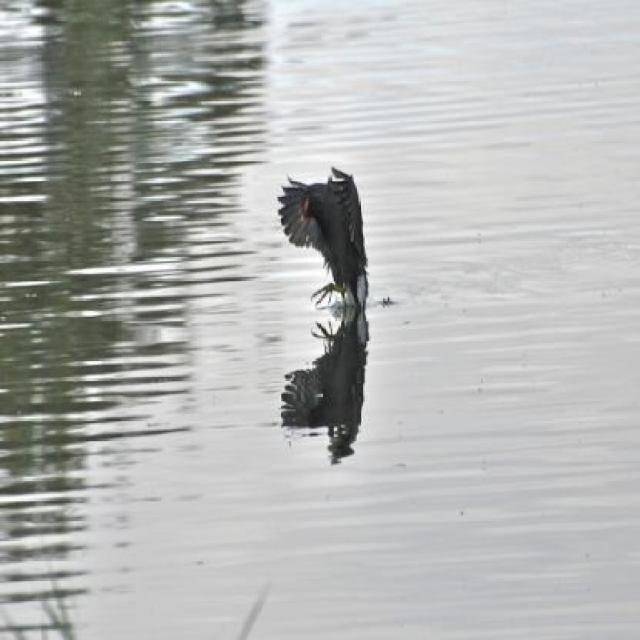Eagle: (279, 168, 368, 313)
